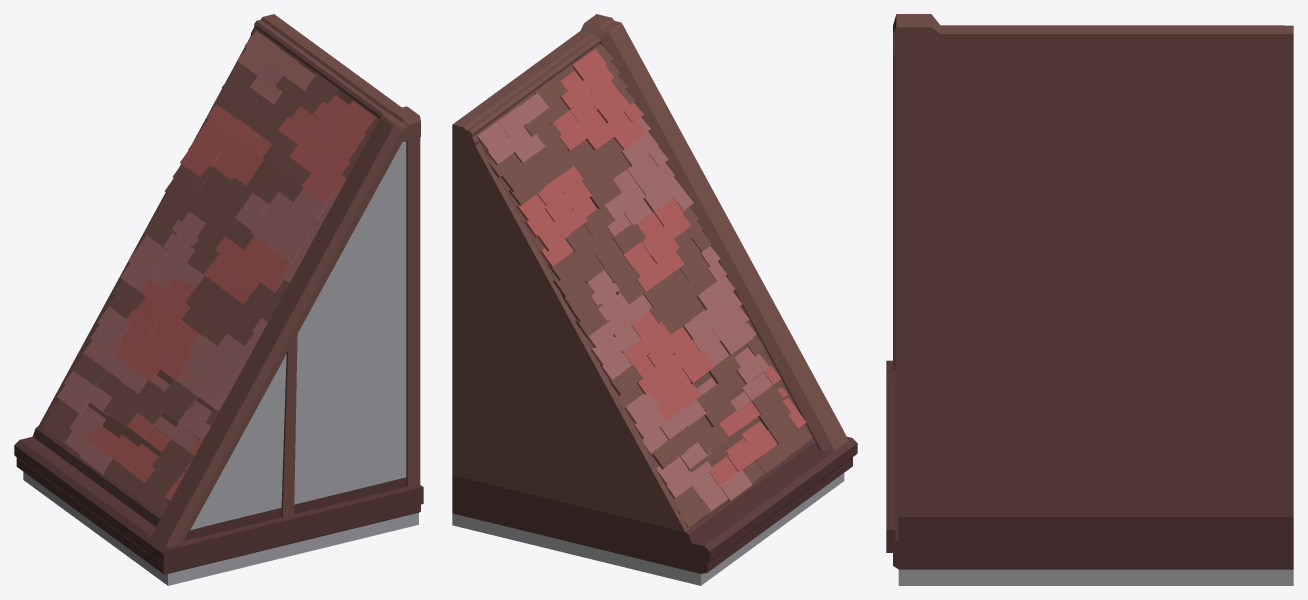
File: RoofEdge_2_S.fbx
The picture shows the model from 3 angles, left to right: view 1: azimuth 30°, elevation 25°; view 2: azimuth 150°, elevation 25°; view 3: azimuth 270°, elevation 25°; orthographic projection. The views are drawn at different scales.
Parts seen in each view (by area): view 1: RoofEdge_2_S; view 2: RoofEdge_2_S; view 3: RoofEdge_2_S.
Part boxes in pixels (left/top/right/bottom): RoofEdge_2_S: left=14, top=14, right=423, bottom=585; RoofEdge_2_S: left=452, top=14, right=857, bottom=585; RoofEdge_2_S: left=886, top=14, right=1293, bottom=585.
Bounding box in the file's own units: 207 × 206 × 312.
